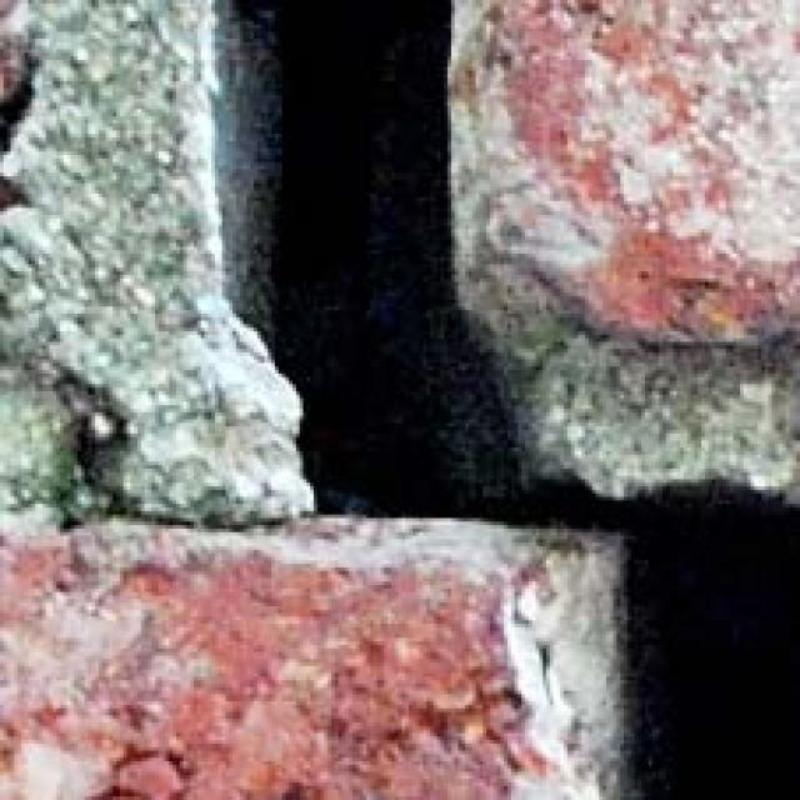pothole: (266, 1, 800, 800)
